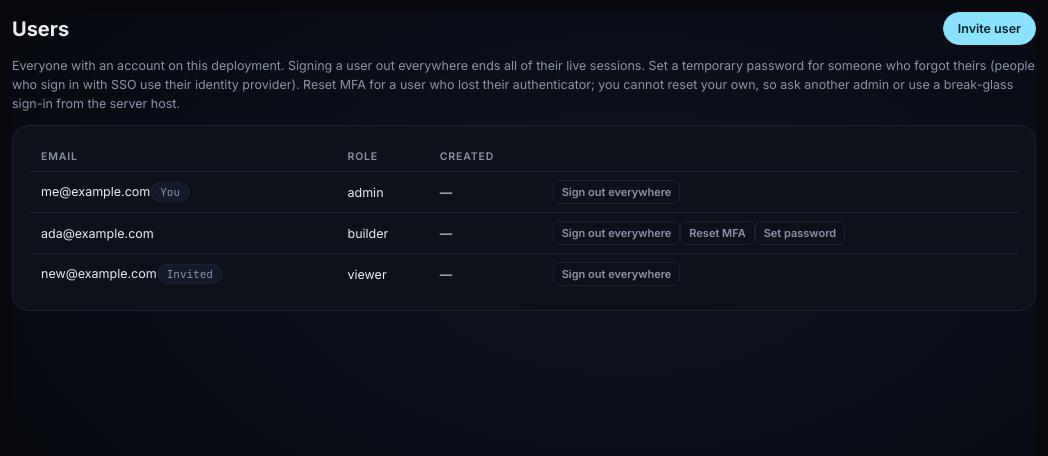
UsersAdminTab › lists users and resets another user's MFA after confirmation; no button for yourself or pending invites
Expected: the text "ada@example.com" is shown, top-left (31, 213), bottom-right (338, 254)
Step 1. Click the button with aria-label "Reset MFA for ada@example.com" → (718,233), box top-left (680, 221), bottom-right (755, 245)
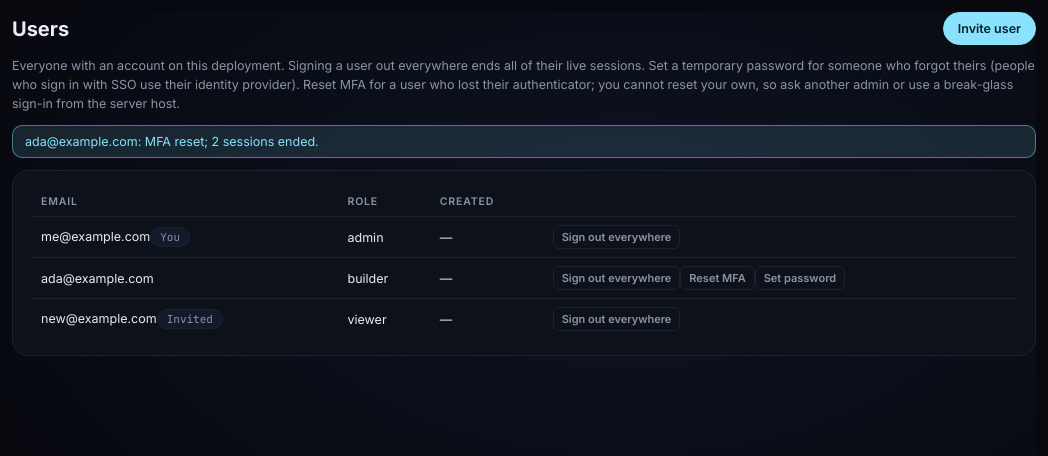
Now the text "ada@example.com: MFA reset; 2 sessions ended." is shown, box top-left (12, 125), bottom-right (1036, 158)
